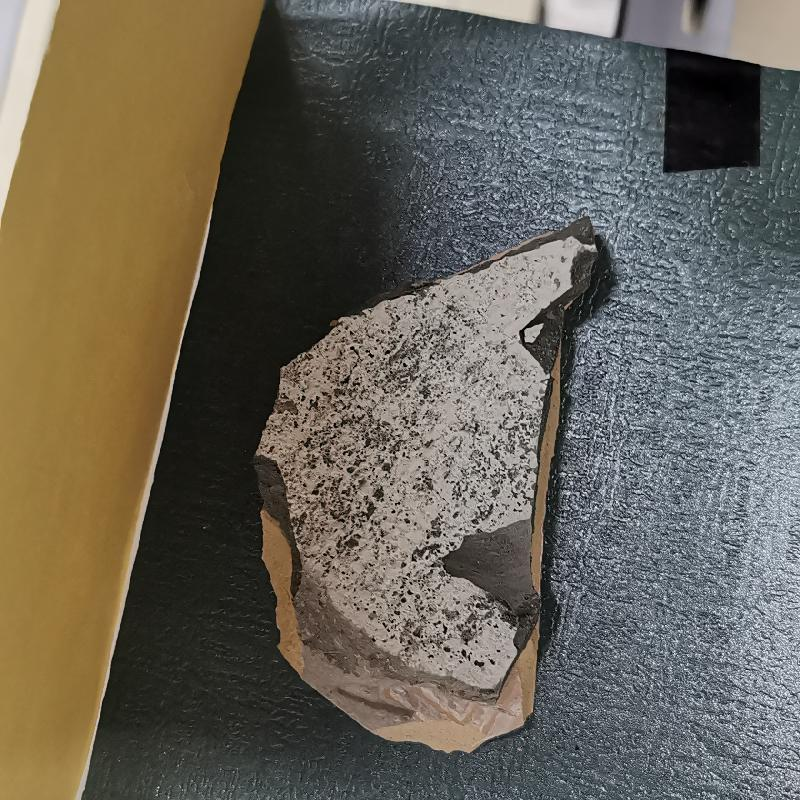tile: (247, 213, 616, 753)
